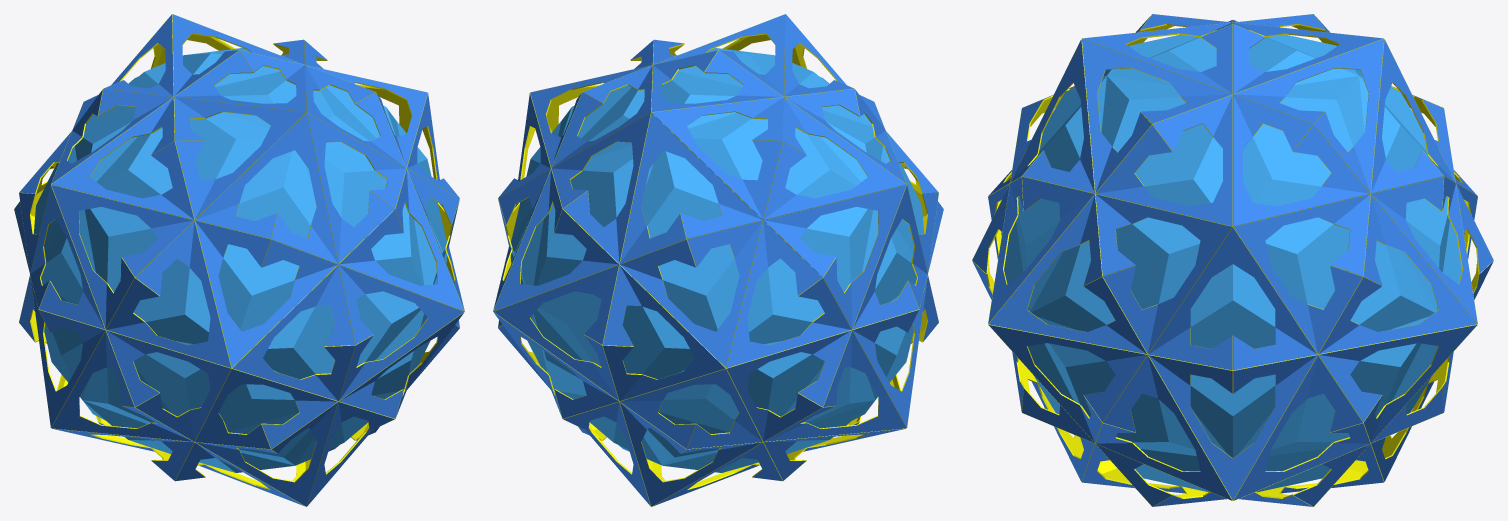
File: MedialDeltoidalHexecontahedronS1.glb
The picture shows the model from 3 angles, left to right: view 1: azimuth 30°, elevation 25°; view 2: azimuth 150°, elevation 25°; view 3: azimuth 270°, elevation 25°; orthographic projection. The views are drawn at different scales.
Visible parts, largest first — view 1: Mesh_0.003, Mesh_1.003; view 2: Mesh_0.003, Mesh_1.003; view 3: Mesh_0.003, Mesh_1.003.
Boxes of the visible parts, x1,y1,x2,y2 form: Mesh_0.003: [14, 14, 464, 506]; Mesh_1.003: [33, 48, 447, 472]; Mesh_0.003: [493, 14, 943, 506]; Mesh_1.003: [510, 48, 924, 472]; Mesh_0.003: [972, 14, 1493, 506]; Mesh_1.003: [1001, 35, 1464, 492].
Bounding box in the file's own units: 9.39 × 9.39 × 9.39.
